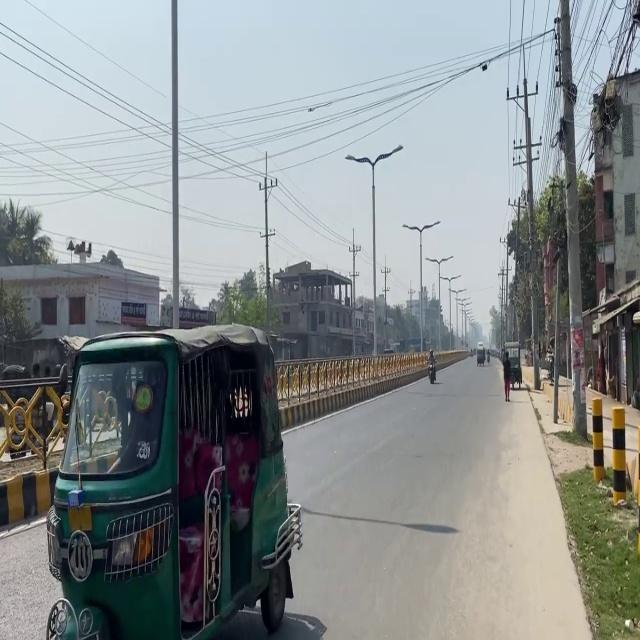Bench: (578, 398, 634, 518)
Construction-barrier: (523, 378, 596, 638), (0, 465, 58, 537)
Garbage-bin: (501, 350, 511, 401), (427, 349, 437, 383)
Light-pole: (553, 0, 588, 439), (169, 1, 180, 328)
Traffic-cone: (44, 321, 302, 638)
